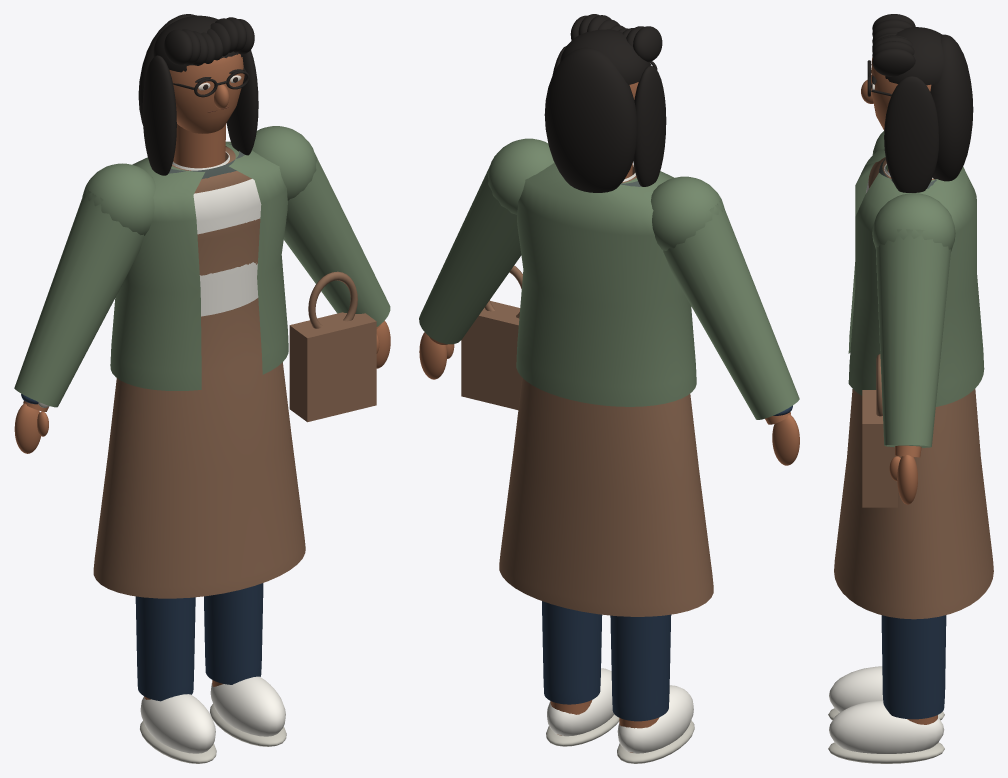
Rendered from static-scan.glb.
The picture shows the model from 3 angles, left to right: view 1: azimuth 30°, elevation 25°; view 2: azimuth 150°, elevation 25°; view 3: azimuth 270°, elevation 25°; orthographic projection.
Visible parts, largest first — view 1: dress, open-jacket, jacket-sleeve--1, tote-body, jacket-sleeve-1, trouser-leg--1, trouser-leg-1, tee, head, shoulder-cap--1, sneaker--1, hair-side--1 (+11 smaller); view 2: dress, open-jacket, jacket-sleeve--1, hair-back, jacket-sleeve-1, trouser-leg--1, trouser-leg-1, tote-body, shoulder-cap--1, hair-side--1, shoulder-cap-1, sneaker--1 (+7 smaller); view 3: dress, open-jacket, jacket-sleeve-1, trouser-leg-1, hair-side-1, hair-back, sneaker-1, shoulder-cap-1, tote-body, hair-cap, sneaker--1, sole-1 (+6 smaller).
Boxes of the visible parts, bbox=[...] form: dress: bbox=[93, 146, 305, 598]; open-jacket: bbox=[110, 141, 288, 390]; jacket-sleeve--1: bbox=[14, 190, 144, 407]; tote-body: bbox=[289, 312, 376, 422]; jacket-sleeve-1: bbox=[283, 147, 390, 326]; trouser-leg--1: bbox=[135, 596, 195, 701]; trouser-leg-1: bbox=[204, 583, 263, 684]; tee: bbox=[172, 151, 261, 316]; head: bbox=[169, 54, 244, 133]; shoulder-cap--1: bbox=[82, 163, 155, 235]; sneaker--1: bbox=[140, 694, 215, 753]; hair-side--1: bbox=[142, 55, 176, 175]; dress: bbox=[499, 165, 713, 616]; open-jacket: bbox=[516, 162, 696, 406]; jacket-sleeve--1: bbox=[663, 201, 799, 419]; hair-back: bbox=[544, 47, 637, 192]; jacket-sleeve-1: bbox=[419, 156, 521, 344]; trouser-leg--1: bbox=[610, 614, 671, 721]; trouser-leg-1: bbox=[542, 601, 602, 704]; tote-body: bbox=[461, 301, 522, 409]; shoulder-cap--1: bbox=[651, 176, 725, 250]; hair-side--1: bbox=[633, 65, 666, 186]; shoulder-cap-1: bbox=[487, 138, 554, 214]; sneaker--1: bbox=[617, 685, 693, 753]; dress: bbox=[834, 157, 993, 619]; open-jacket: bbox=[848, 149, 984, 406]; jacket-sleeve-1: bbox=[876, 229, 951, 447]; trouser-leg-1: bbox=[881, 615, 946, 719]; hair-side-1: bbox=[884, 76, 938, 192]; hair-back: bbox=[930, 34, 973, 181]; sneaker-1: bbox=[829, 700, 944, 753]; shoulder-cap-1: bbox=[872, 193, 955, 251]; tote-body: bbox=[862, 390, 897, 507]; hair-cap: bbox=[885, 27, 943, 85]; sneaker--1: bbox=[829, 666, 882, 712]; sole-1: bbox=[828, 742, 944, 763].
Bounding box in the file's own units: 1.03 × 1.87 × 0.394.
